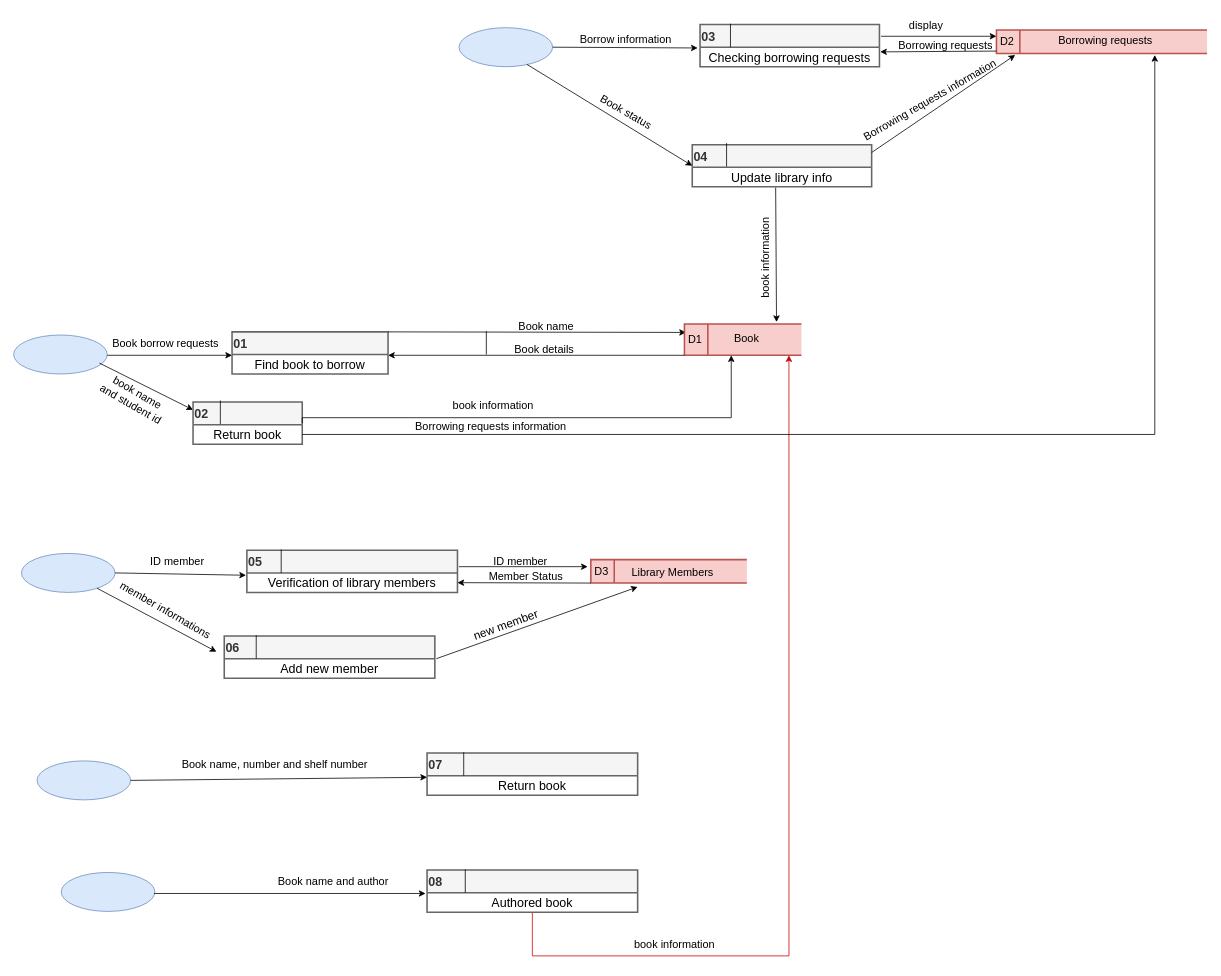
The diagram is 1221 pixels wide and 976 high, and some of its shapes have lost their labels. The shapes that lost their labels are listed below. From the top down, each one's centre as x and y in pixels, then its label:
point 505,47: Stock manager
point 60,354: Student
point 68,572: Librarian
point 83,780: Worker
point 107,891: University Member
